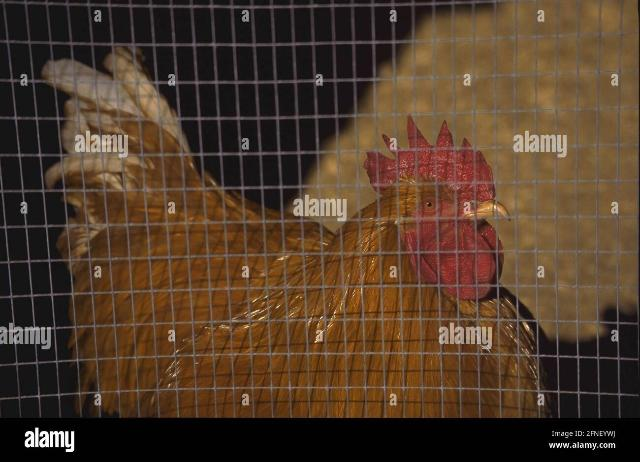Chicken: (44, 45, 555, 419)
